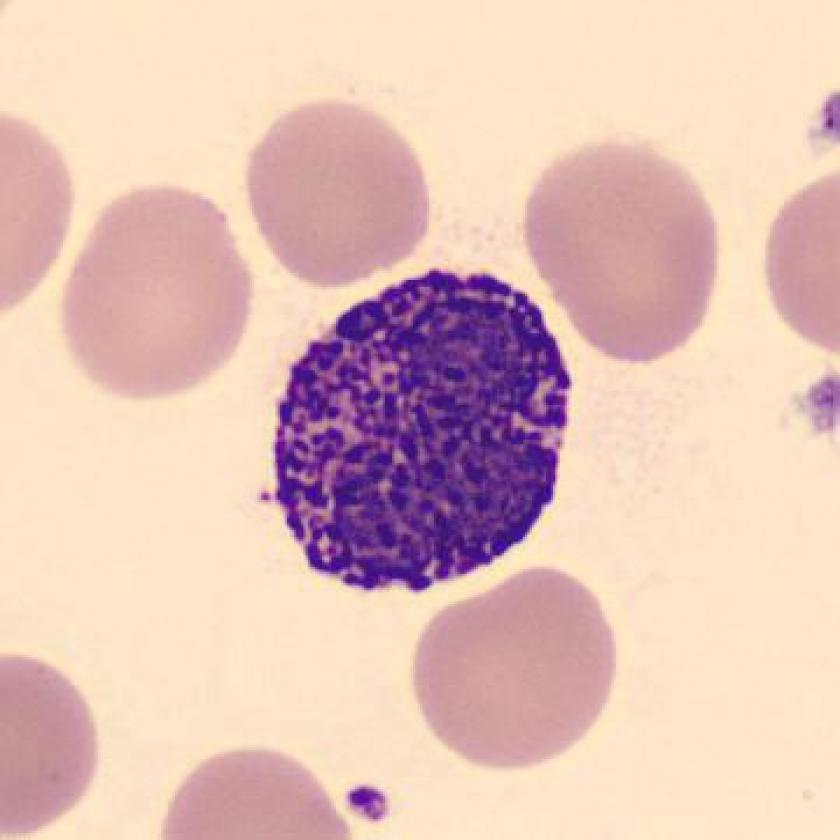basophil: (258, 262, 573, 605)
